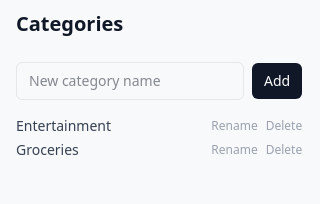
Test: CategoriesPage › shows an error when deleteCategory returns an error string
The image size is (320, 204).
Expected: the text "Entertainment" is shown, [16, 116, 111, 135]
Step 1. Click the button with aria-label "delete entertainment" → (284, 126), box [266, 118, 302, 134]
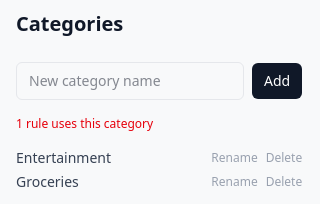
Expected: the text "1 rule uses this category" is shown, [16, 115, 153, 132]
